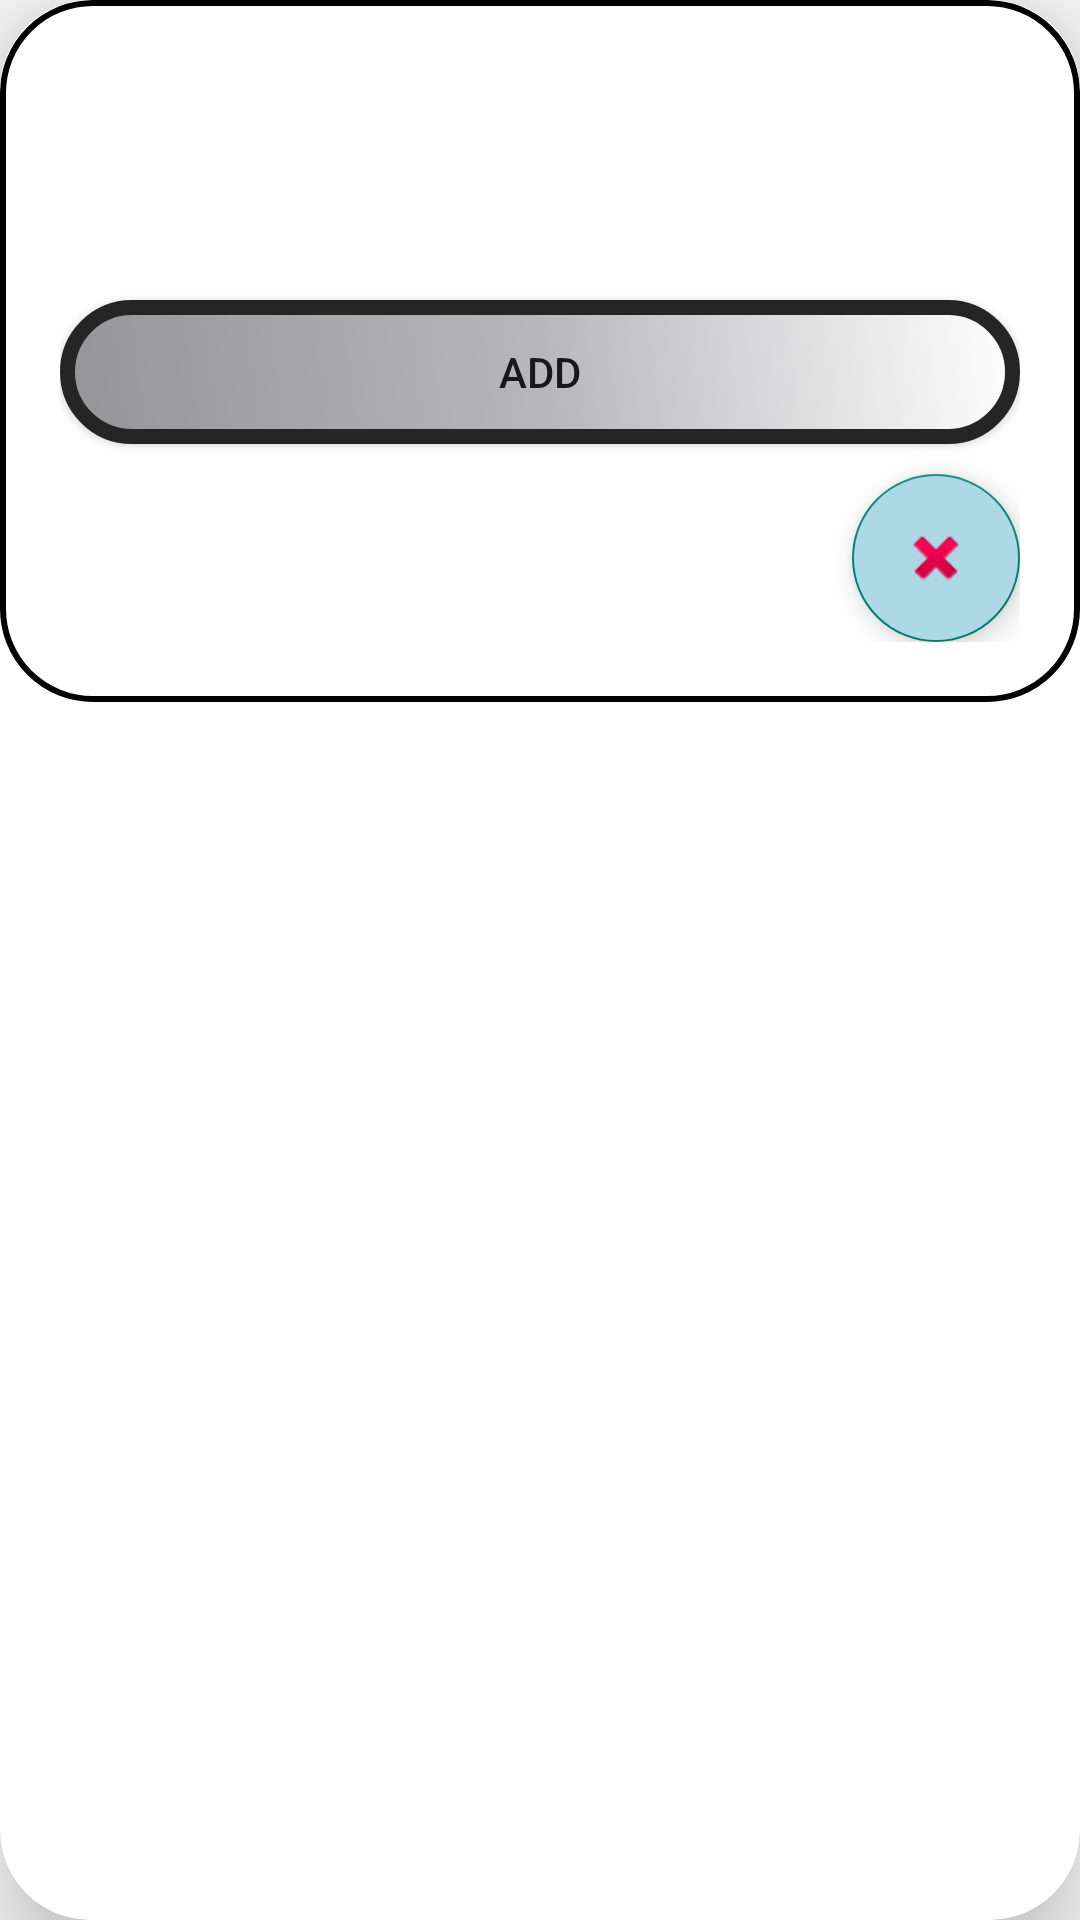

Icons on this 1080px x 1920px Android screen, each with the point to tap as (x=x, y=y):
delete: (x=936, y=558)
